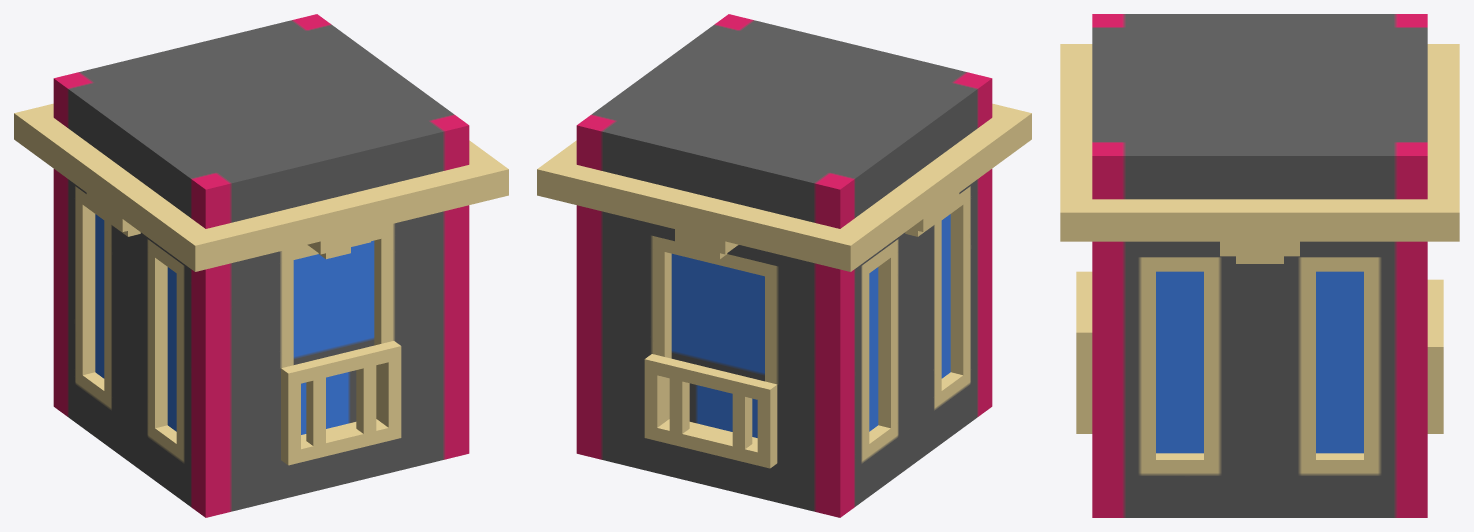
File: thirdModel(Black).fbx
3 renders of one model, left to right at view 1: azimuth 30°, elevation 25°; view 2: azimuth 150°, elevation 25°; view 3: azimuth 270°, elevation 25°, orthographic. The views are drawn at different scales.
Visible parts, largest first — view 1: Box; view 2: Box; view 3: Box.
Boxes of the visible parts, box(x1,y1,x2,y2) form: Box: box(14, 14, 508, 517); Box: box(537, 14, 1031, 517); Box: box(1060, 14, 1459, 517).
Size of the model in its own units: 25 by 25 by 25.
1 material, 1 textured.
